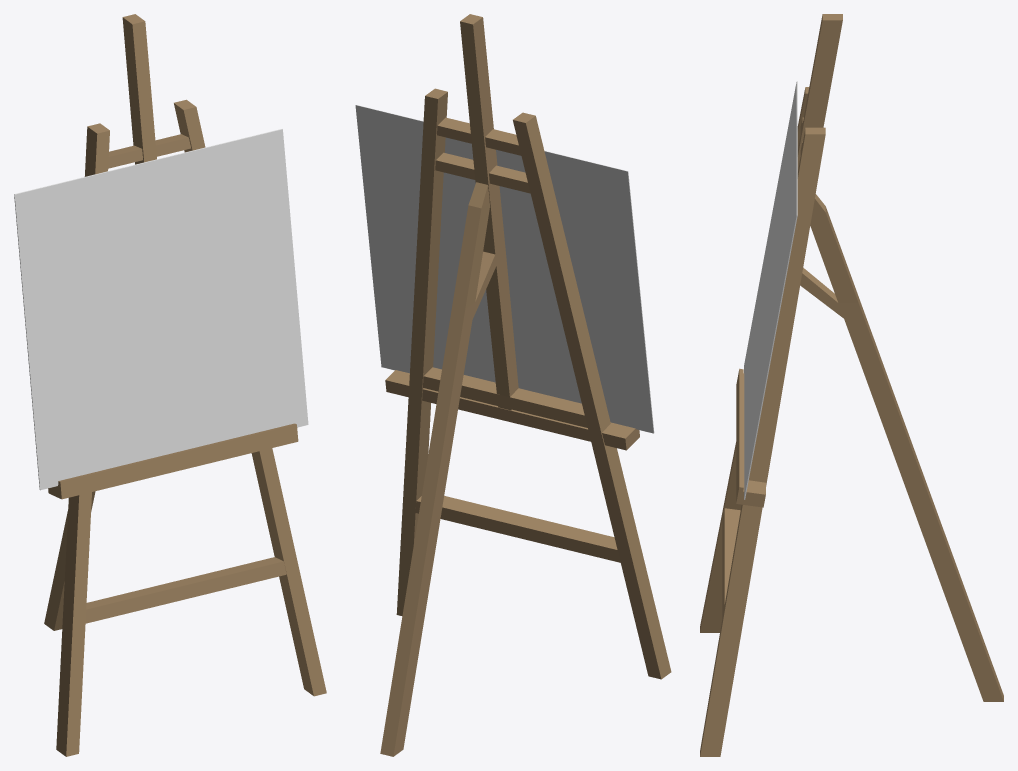
The model's file is cavallettoCheckpoint.fbx.
3 views of the same model, side by side, from view 1: azimuth 30°, elevation 25°; view 2: azimuth 150°, elevation 25°; view 3: azimuth 270°, elevation 25° (orthographic). The views are drawn at different scales.
Parts seen in each view (by area): view 1: Plane, Cube; view 2: Cube, Plane; view 3: Cube, Plane.
Part boxes in pixels (x1,y1,x2,y2): Plane: [14, 129, 308, 490]; Cube: [44, 14, 326, 756]; Cube: [380, 14, 671, 756]; Plane: [355, 105, 654, 433]; Cube: [700, 14, 1003, 756]; Plane: [744, 81, 797, 499].
Size of the model in its own units: 343 by 812 by 328.
